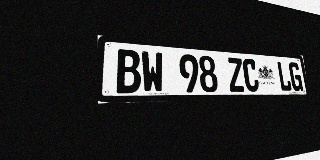8: (198, 55, 218, 92)
9: (179, 54, 200, 92)
B: (116, 49, 141, 93)
C: (242, 58, 260, 92)
G: (288, 62, 303, 91)
L: (276, 61, 292, 91)
W: (141, 51, 165, 93)
Z: (226, 57, 245, 92)
